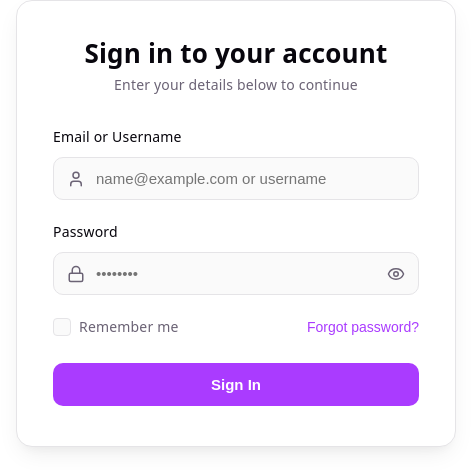
it: LoginForm Component › toggles password visibility when show/hide button is clicked
Later steps or results of the test are not shown.
Click the button named "show password" at (396, 274), box x1=387 y1=264 x2=405 y2=282
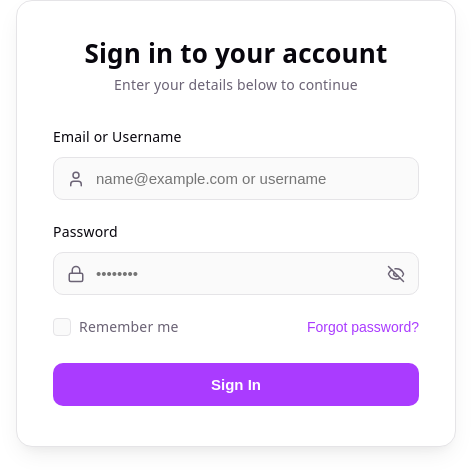
Expected: the button named "hide password" is shown, x1=387 y1=264 x2=405 y2=282
